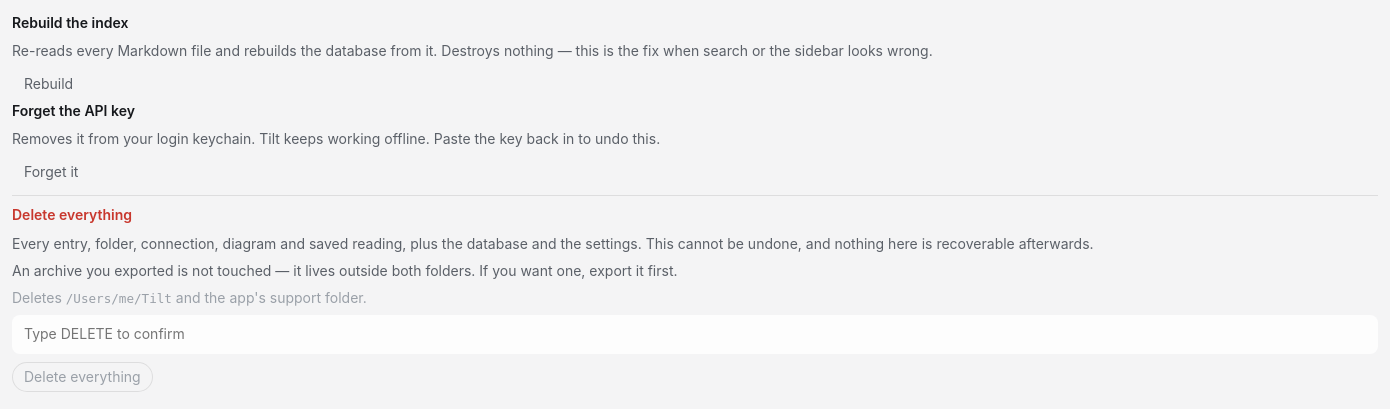
Scenario: Danger › will not delete anything until the word is typed
Expected: the button "Delete everything" is disabled, [12, 362, 153, 392]
Type "delete" into the field labelled "Type DELETE to confirm".
click(695, 335); type("delete")  # box [12, 315, 1378, 354]
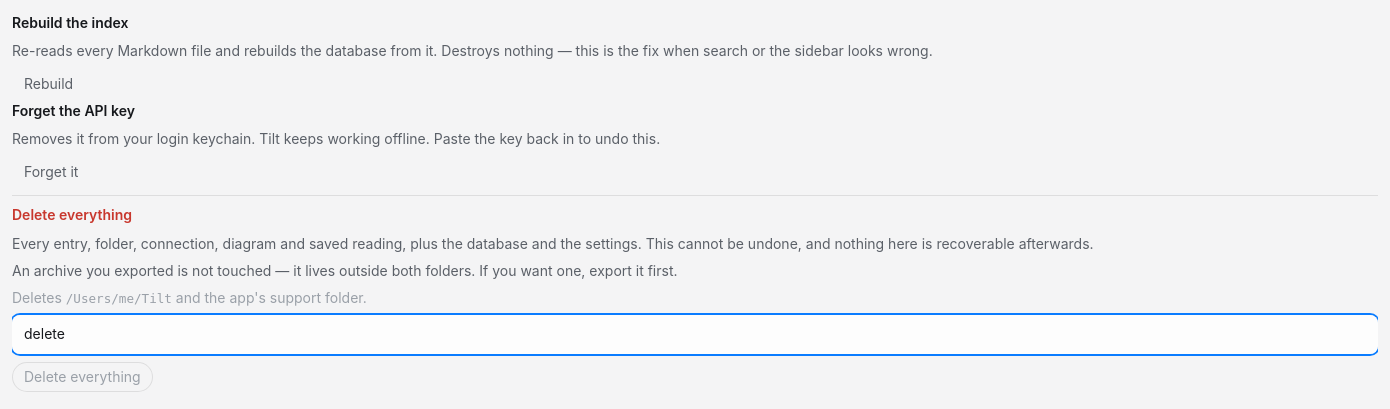
Expected: the button "Delete everything" is disabled, [12, 362, 153, 392]
Replace the text in the field named "Type DELETE to confirm" with "DELETE" at (695, 335), box [12, 315, 1378, 354]
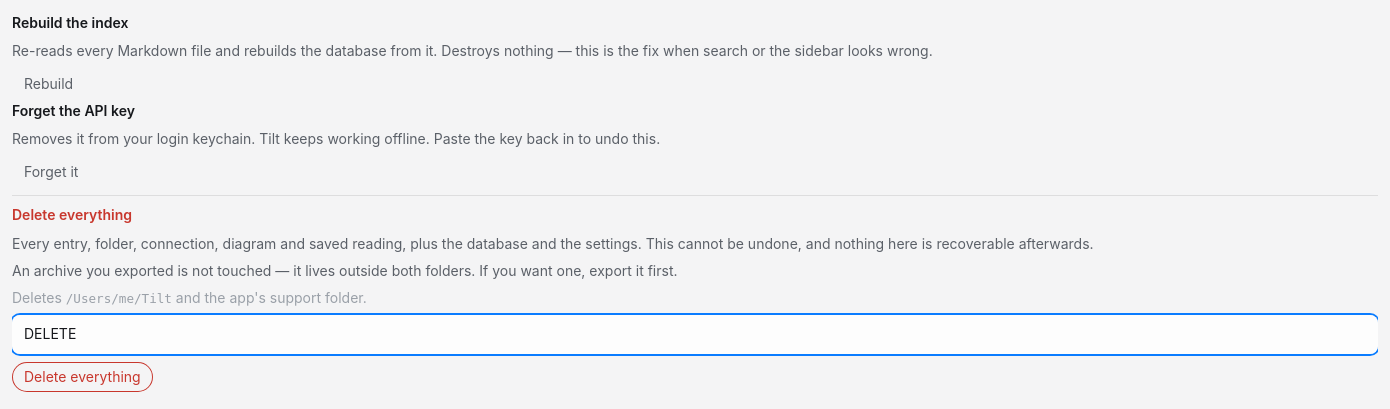
Expected: the button "Delete everything" is enabled, [12, 362, 153, 392]
